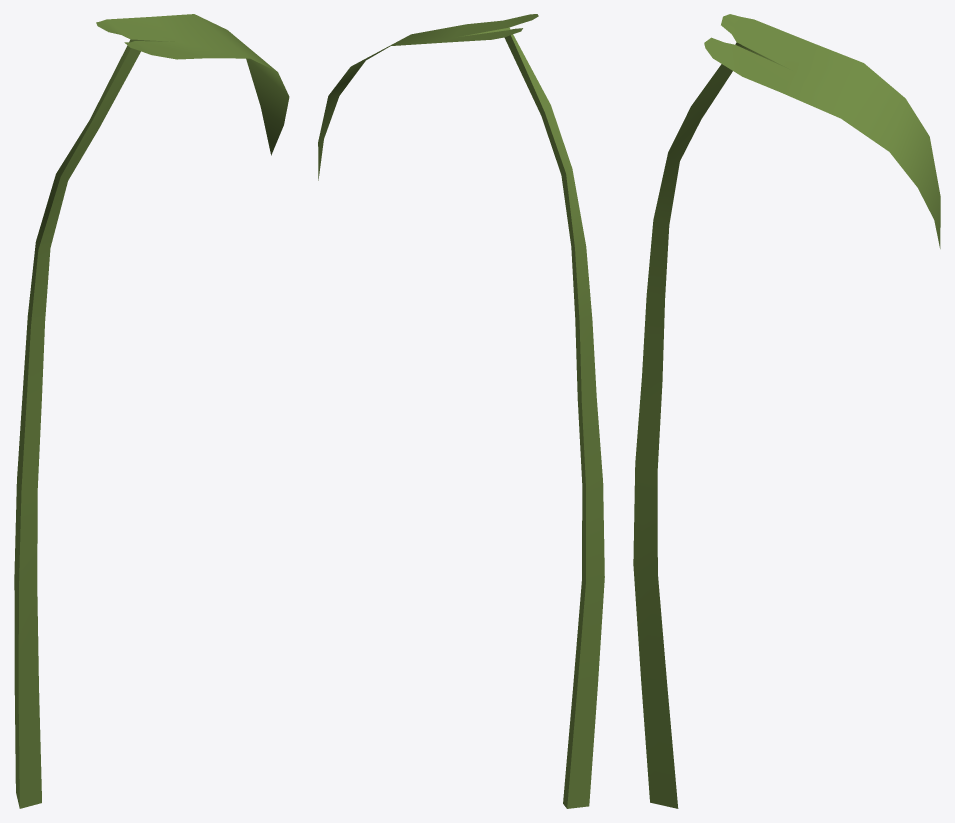
File: plant_water_twig_solo_B.fbx
3 renders of one model, left to right at view 1: azimuth 30°, elevation 25°; view 2: azimuth 150°, elevation 25°; view 3: azimuth 330°, elevation 25°, orthographic. The views are drawn at different scales.
Visible parts, largest first — view 1: plant_water_twig_solo_B; view 2: plant_water_twig_solo_B; view 3: plant_water_twig_solo_B.
Part boxes in pixels (x1,y1,x2,y2): plant_water_twig_solo_B: (14,14,289,808); plant_water_twig_solo_B: (318,14,604,808); plant_water_twig_solo_B: (633,14,940,808).
Size of the model in its own units: 10.43 by 27.85 by 3.68.
